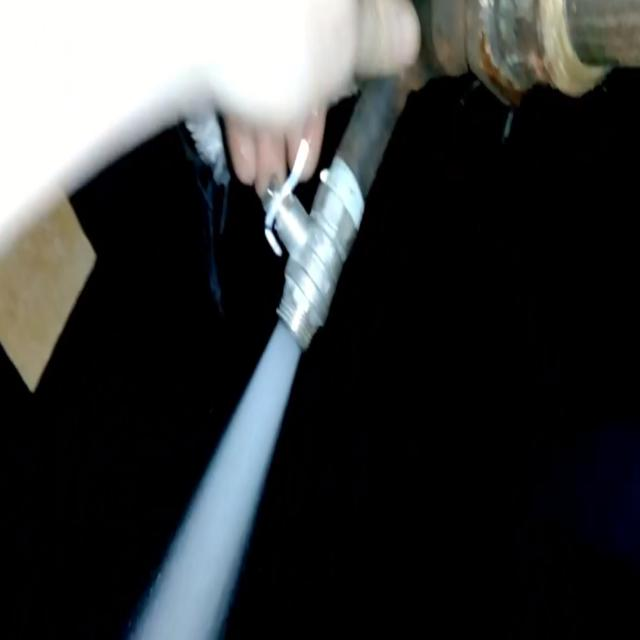leak: (126, 320, 303, 640)
